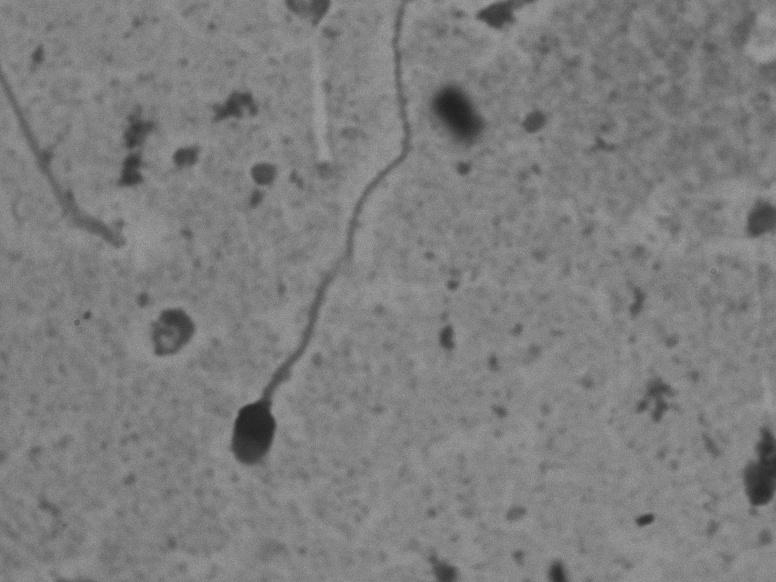Normal: (213, 12, 443, 479)
